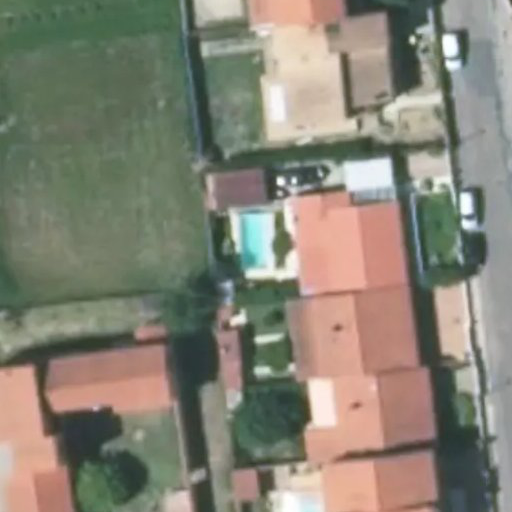pool: (241, 215, 270, 268)
